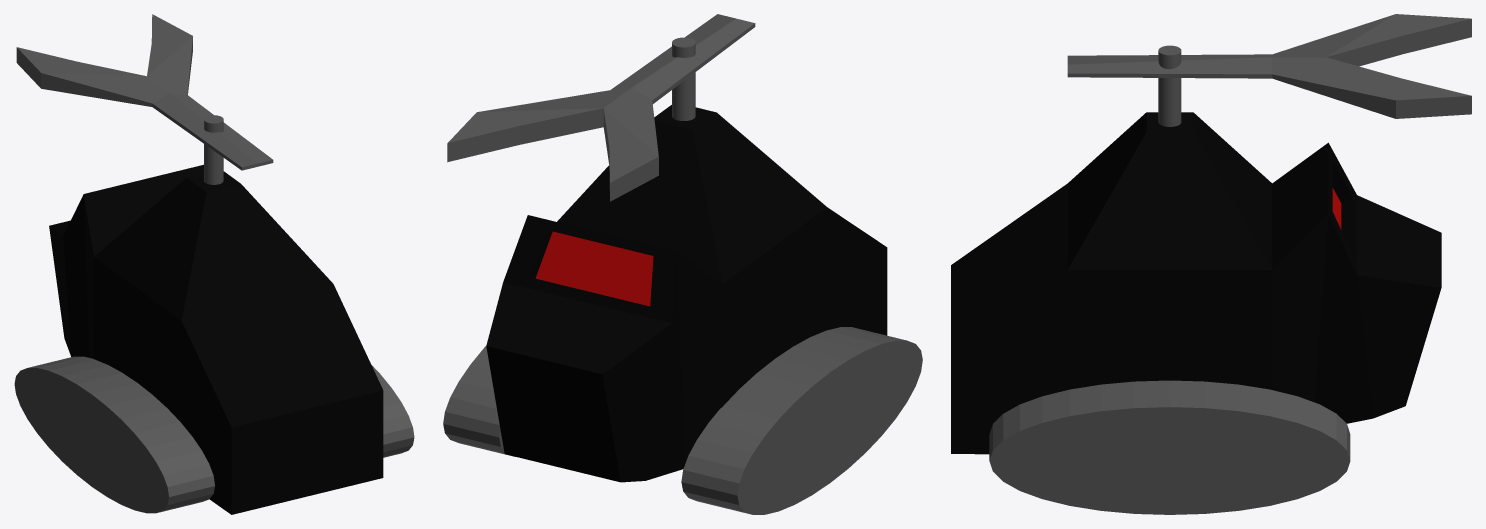
Rendered from CutRobot.fbx.
3 renders of one model, left to right at view 1: azimuth 30°, elevation 25°; view 2: azimuth 150°, elevation 25°; view 3: azimuth 270°, elevation 25°, orthographic. The views are drawn at different scales.
Visible parts, largest first — view 1: Cube, Cylinder.001, Cube.001, Cylinder; view 2: Cube, Cylinder.001, Cube.001, Cylinder; view 3: Cube, Cylinder.001, Cube.001, Cylinder.
Boxes of the visible parts, x1,y1,x2,y2 form: Cube: [49, 164, 383, 514]; Cylinder.001: [14, 356, 414, 513]; Cube.001: [16, 14, 273, 170]; Cylinder: [204, 115, 223, 184]; Cube: [486, 105, 887, 482]; Cylinder.001: [443, 327, 922, 514]; Cube.001: [447, 14, 755, 201]; Cylinder: [672, 37, 695, 120]; Cube: [951, 112, 1441, 454]; Cylinder.001: [989, 380, 1350, 514]; Cube.001: [1067, 14, 1471, 118]; Cylinder: [1158, 45, 1181, 126].
Bounding box in the file's own units: 323 × 425 × 509.
